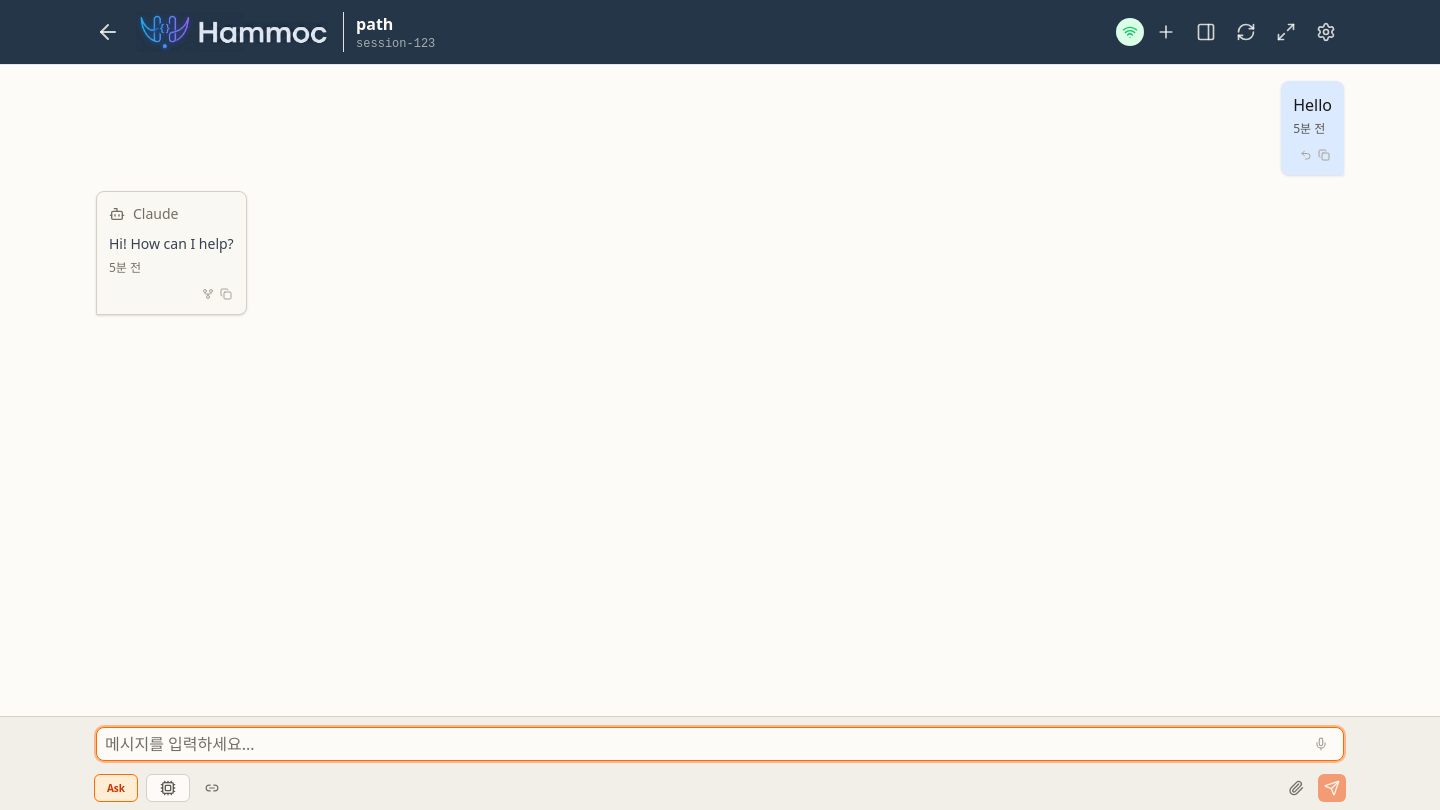
Test: ChatPage › Session quick access panel (Story 5.7) › should open panel when toggle button is clicked
The image size is (1440, 810).
// Open the panel
Click the button with test id "panel-toggle-button".
click(1206, 32)  # box [1188,14,1224,50]
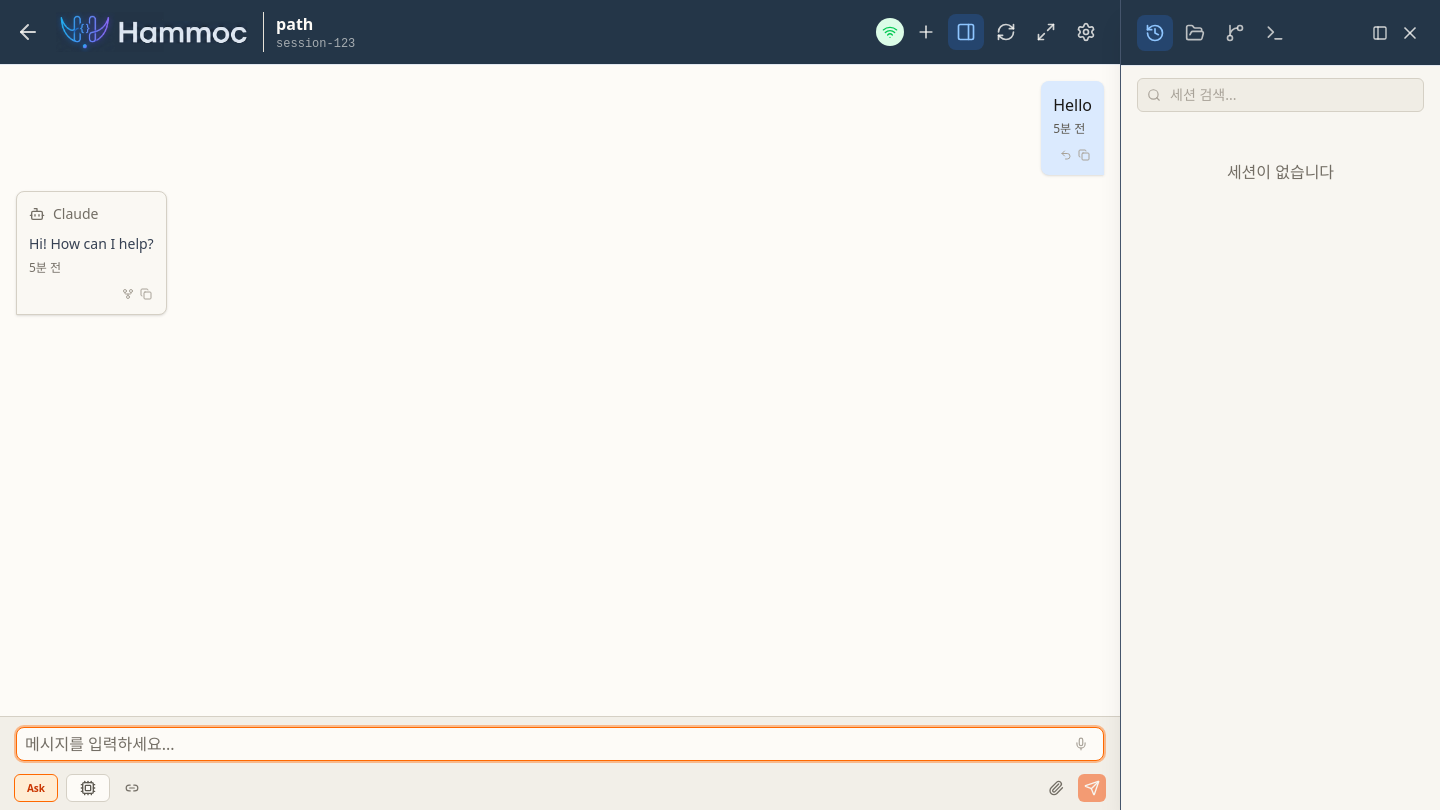
Now the element with test id "quick-panel" is shown, box [1120,0,1439,809]
